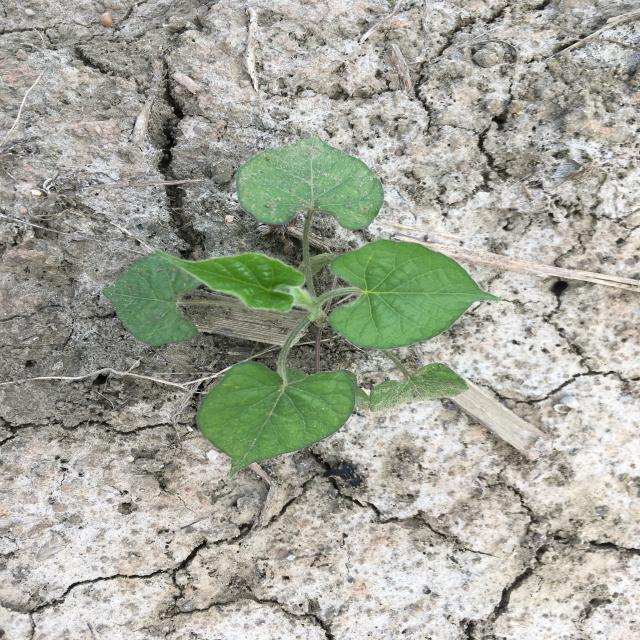MorningGlory: (102, 130, 502, 480)
